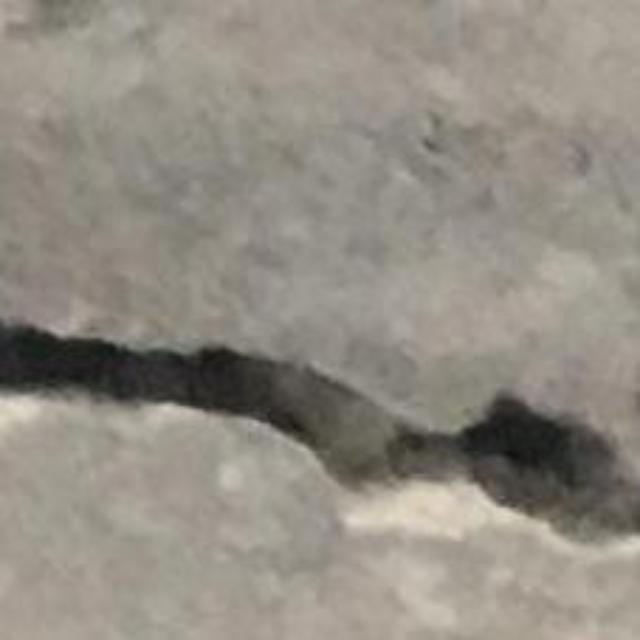crack: (0, 322, 639, 535)
